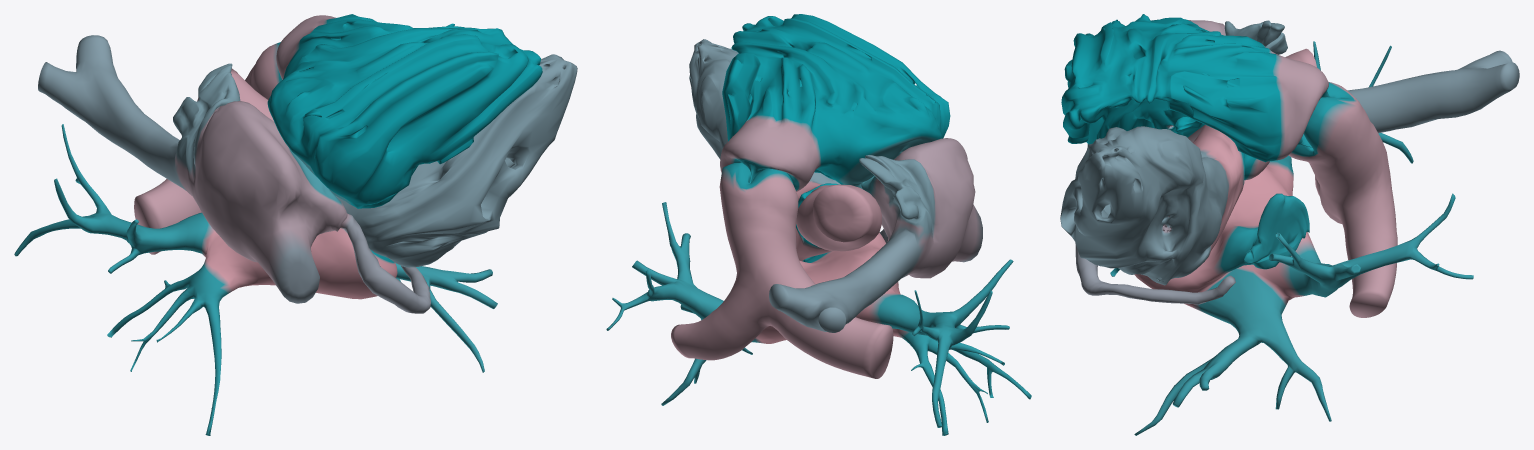
File: Heart_Inner.fbx
3 renders of one model, left to right at view 1: azimuth 30°, elevation 25°; view 2: azimuth 150°, elevation 25°; view 3: azimuth 270°, elevation 25°, orthographic. The views are drawn at different scales.
Visible parts, largest first — view 1: Heart_Inner; view 2: Heart_Inner; view 3: Heart_Inner.
Boxes of the visible parts, box(x1,y1,x2,y2) form: Heart_Inner: box(14, 14, 577, 435); Heart_Inner: box(606, 14, 1031, 435); Heart_Inner: box(1060, 14, 1519, 435).
Size of the model in its own units: 162 by 132 by 148.
